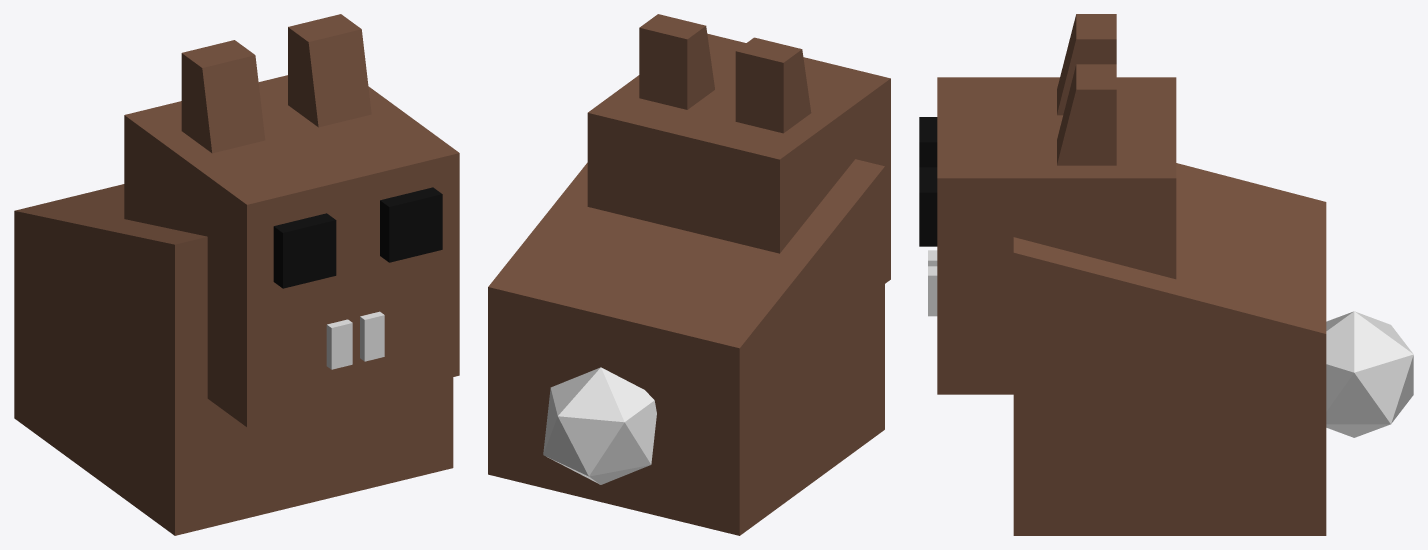
File: rabbitm.fbx
The picture shows the model from 3 angles, left to right: view 1: azimuth 30°, elevation 25°; view 2: azimuth 150°, elevation 25°; view 3: azimuth 270°, elevation 25°; orthographic projection. The views are drawn at different scales.
Parts seen in each view (by area): view 1: Cube; view 2: Cube; view 3: Cube.
Part boxes in pixels (bbox=[...]): Cube: bbox=[14, 14, 459, 535]; Cube: bbox=[488, 14, 890, 535]; Cube: bbox=[919, 14, 1413, 535].
Bounding box in the file's own units: 0.5181 × 0.7646 × 0.8197.
